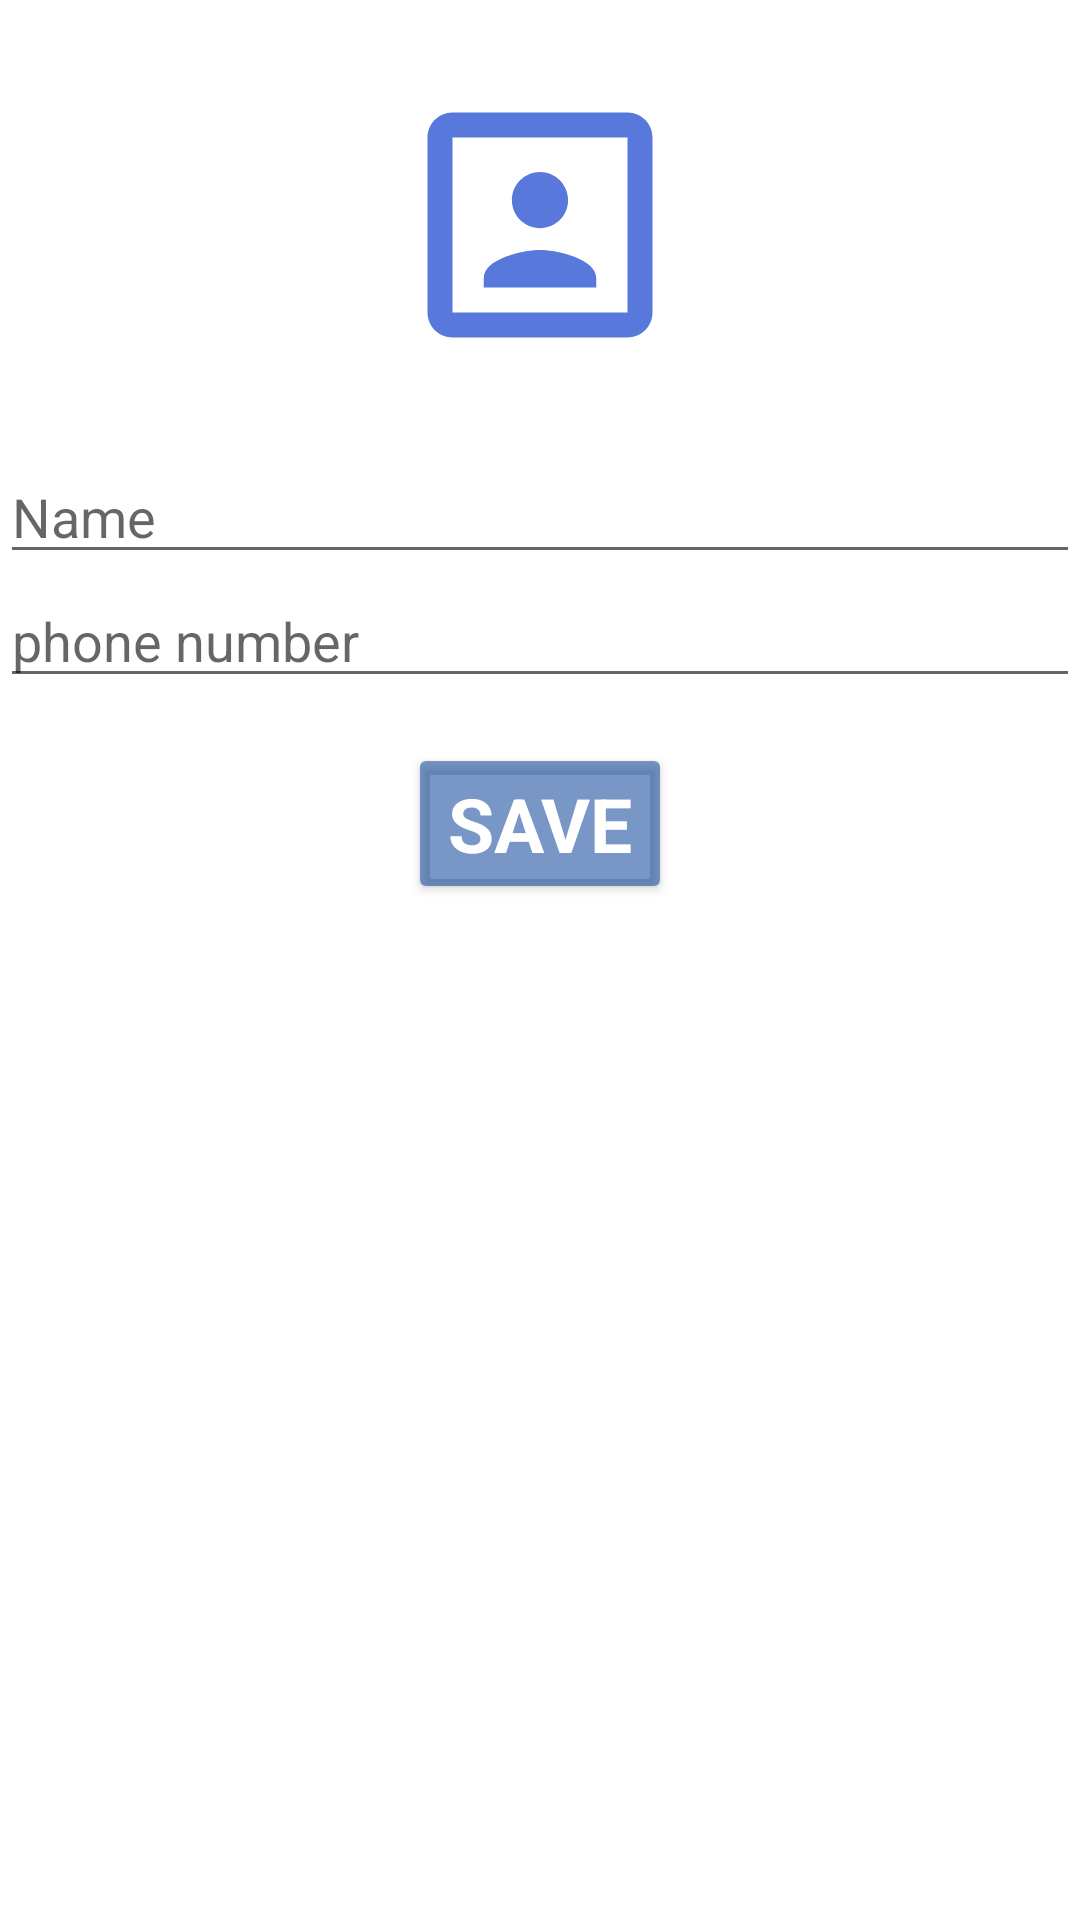

Icon bounding boxes for this 1080 × 1920 phone screenshot, format rect(x1, y1, x2, y2):
portrait: rect(427, 112, 653, 338)
